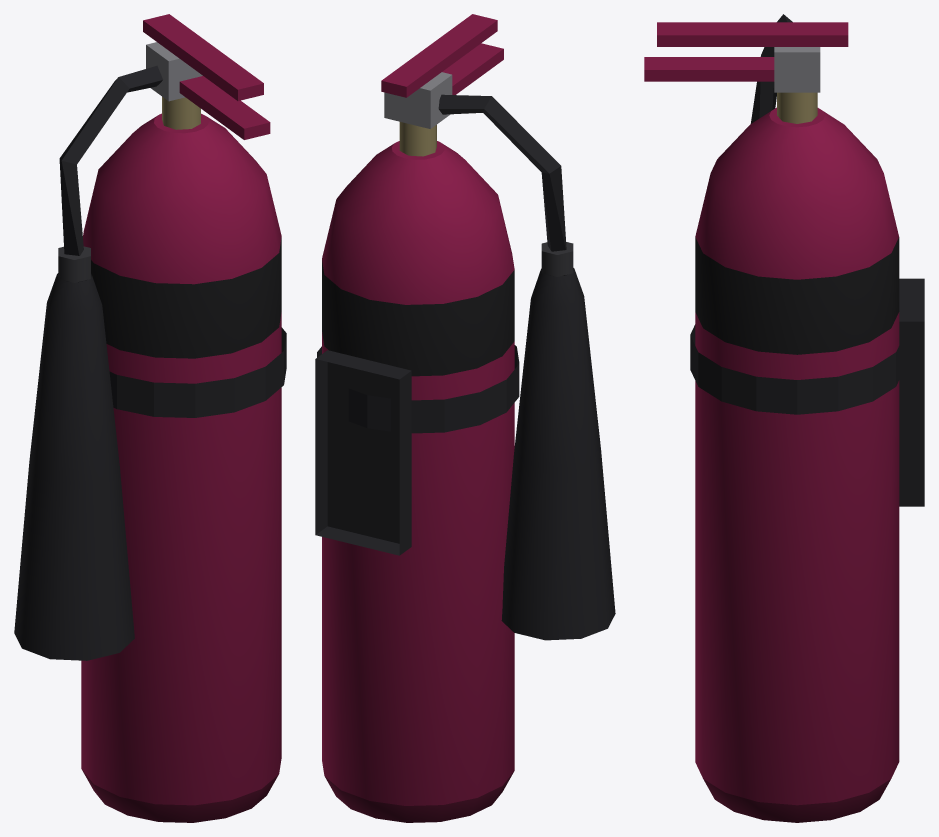
The model's file is fire_extinguisher.glb.
3 renders of one model, left to right at view 1: azimuth 30°, elevation 25°; view 2: azimuth 150°, elevation 25°; view 3: azimuth 270°, elevation 25°, orthographic. The views are drawn at different scales.
Visible parts, largest first — view 1: fire_extinguisher; view 2: fire_extinguisher; view 3: fire_extinguisher.
Part boxes in pixels (left/top/right/bottom): fire_extinguisher: left=14, top=14, right=286, bottom=822; fire_extinguisher: left=315, top=14, right=615, bottom=822; fire_extinguisher: left=644, top=14, right=924, bottom=822.
Size of the model in its own units: 0.247 by 0.655 by 0.22.
